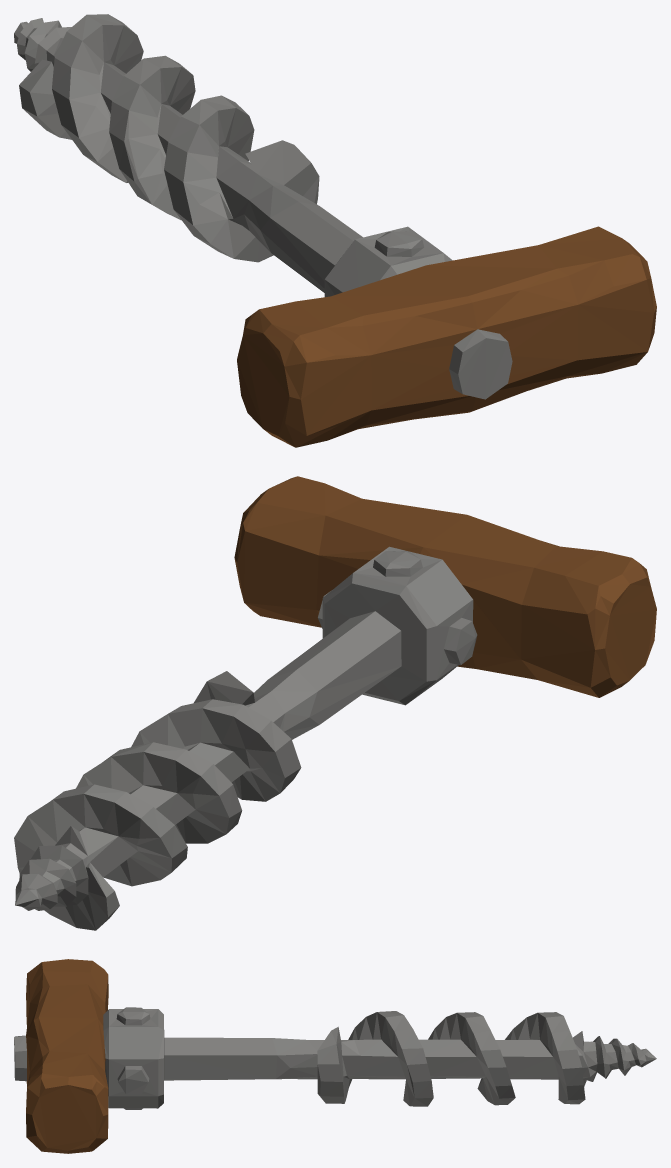
File: HandAugerDrill.fbx
3 views of the same model, one above another, from view 1: azimuth 30°, elevation 25°; view 2: azimuth 150°, elevation 25°; view 3: azimuth 270°, elevation 25° (orthographic). The views are drawn at different scales.
Visible parts, largest first — view 1: HandAugerDrill; view 2: HandAugerDrill; view 3: HandAugerDrill.
Boxes of the visible parts, x1,y1,x2,y2 form: HandAugerDrill: (14, 14, 656, 447); HandAugerDrill: (14, 476, 656, 930); HandAugerDrill: (14, 959, 656, 1153).
Bounding box in the file's own units: 0.2081 × 0.4555 × 0.073.
